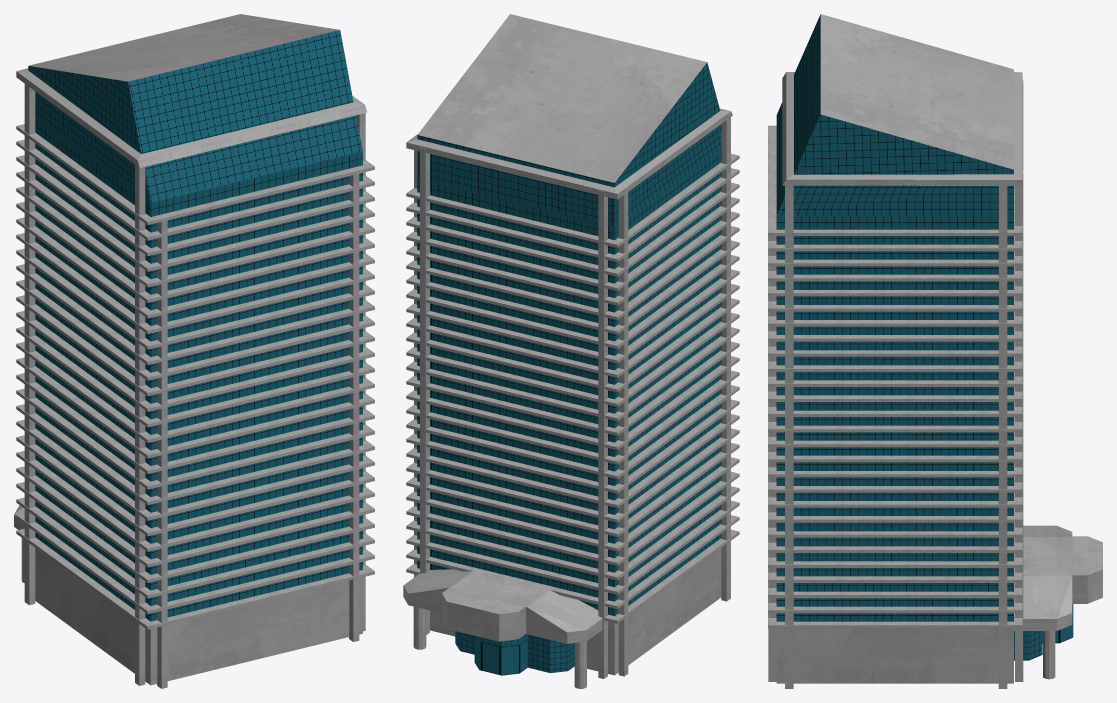
Rendered from SkyScraper_1.fbx.
The picture shows the model from 3 angles, left to right: view 1: azimuth 30°, elevation 25°; view 2: azimuth 150°, elevation 25°; view 3: azimuth 270°, elevation 25°; orthographic projection. The views are drawn at different scales.
Visible parts, largest first — view 1: skyscraper_1; view 2: skyscraper_1; view 3: skyscraper_1.
Boxes of the visible parts, x1,y1,x2,y2 form: skyscraper_1: [14, 14, 374, 688]; skyscraper_1: [403, 14, 739, 688]; skyscraper_1: [768, 14, 1102, 688].
Bounding box in the file's own units: 75.11 × 186 × 98.66.
